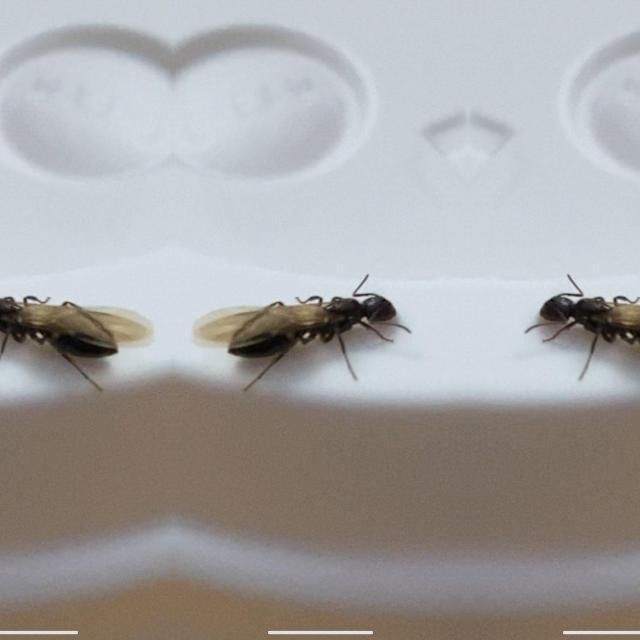Camponotus: (207, 273, 409, 379), (0, 273, 136, 379), (526, 273, 640, 379)
